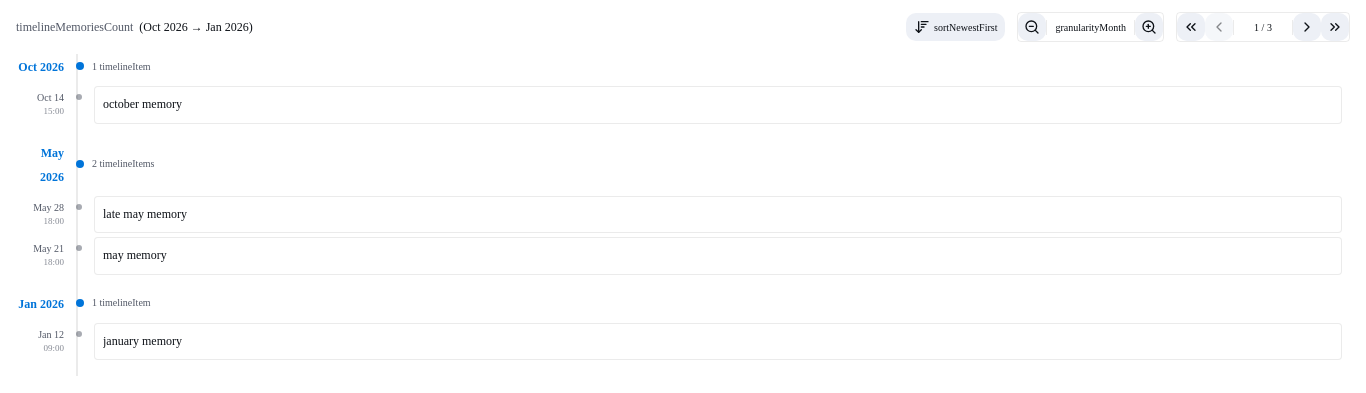
Test: TimelineView sort order › opens newest first, then flips to oldest first
Click the button "sortNewestFirst" at (956, 27), box left=906, top=13, right=1005, bottom=41
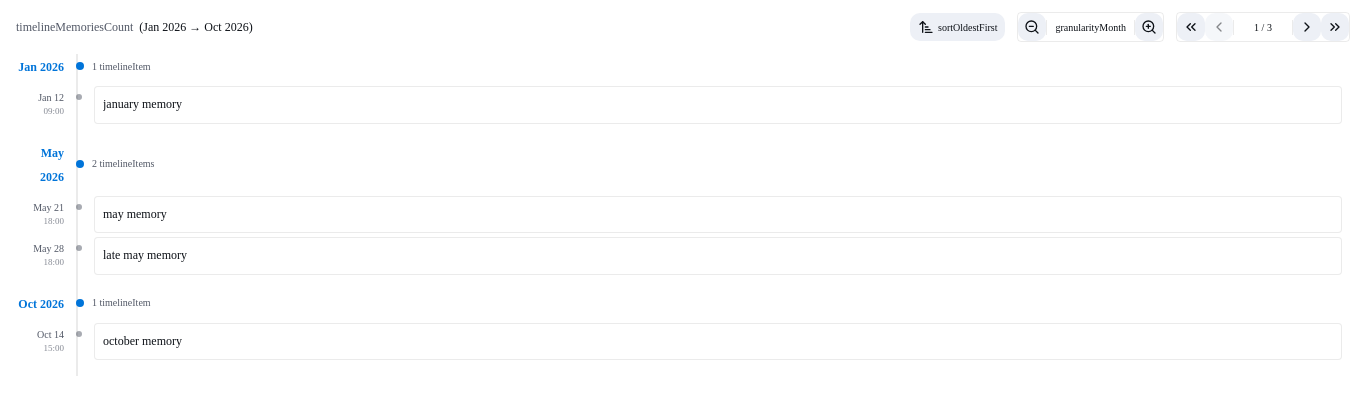
Check: the button "sortOldestFirst" is shown, box left=910, top=13, right=1006, bottom=41
